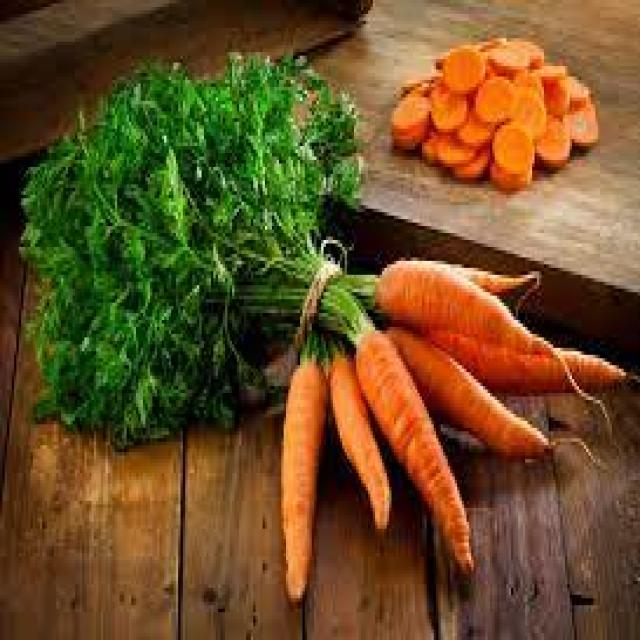Carrot: (281, 344, 327, 617)
